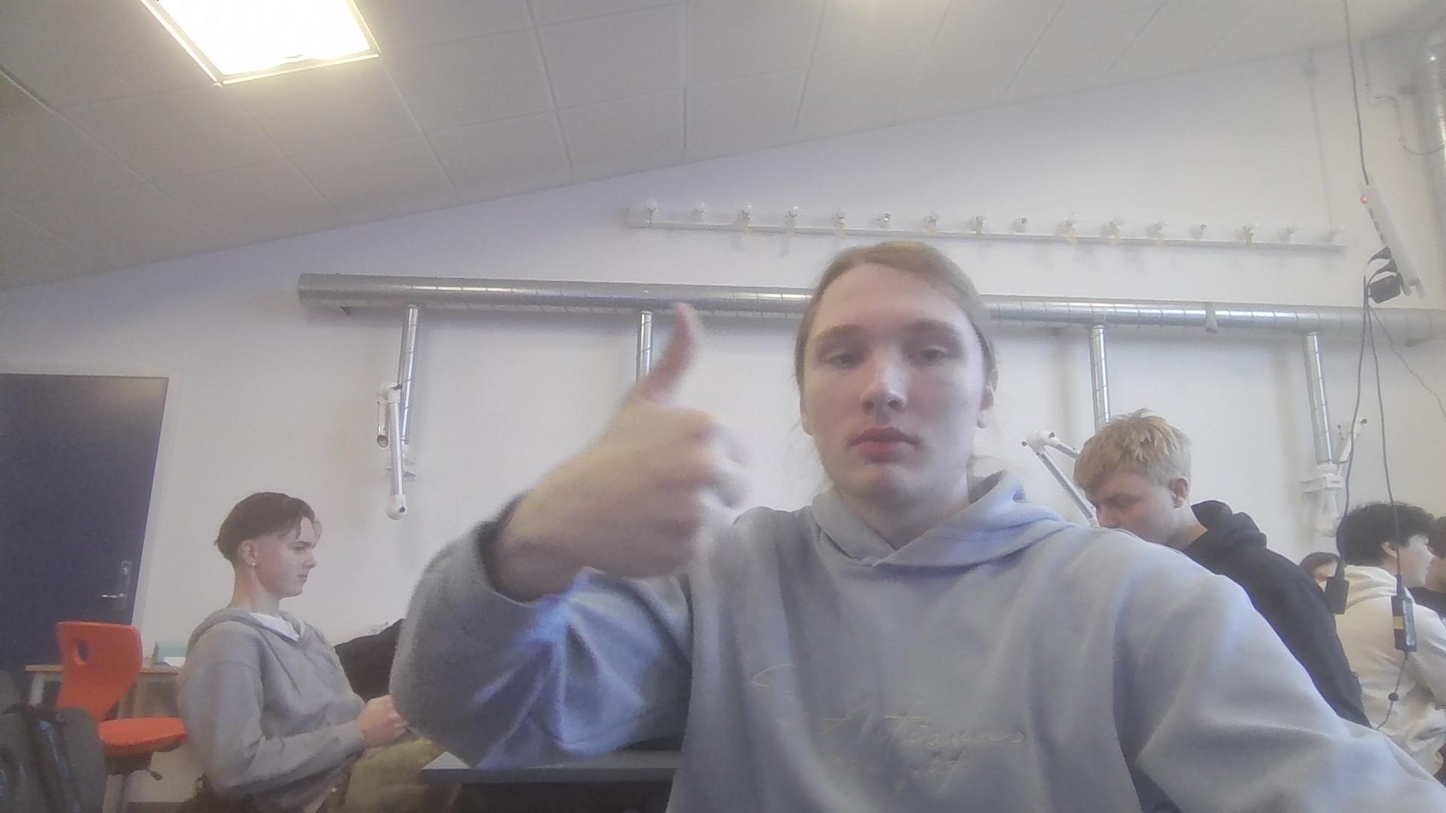thumbs up: (560, 300, 761, 574)
